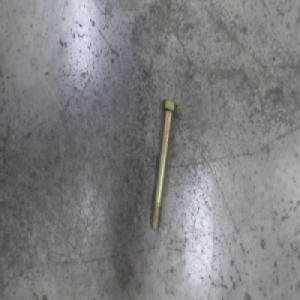Bolt: (149, 96, 179, 234)
